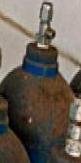cylinder: (1, 1, 81, 163)
